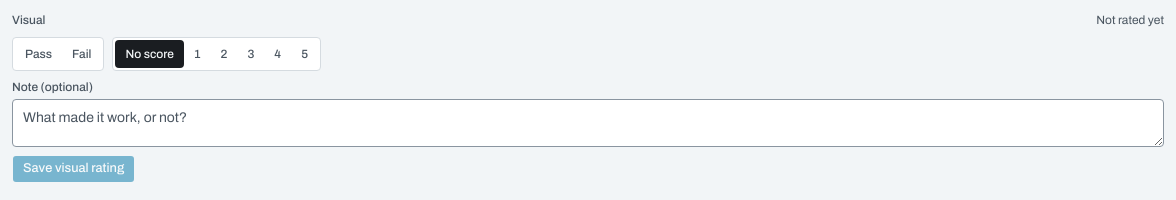
Test: RatingControl feedback › keeps an error message until the next edit
Click the button "Pass". click: (39, 54)
box: left=15, top=40, right=62, bottom=68
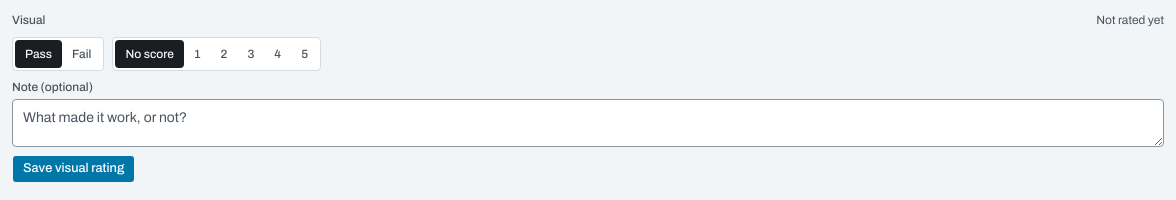
Click the button "Save visual rating". click: (74, 169)
box: left=12, top=155, right=135, bottom=183
Wait 5000 ms
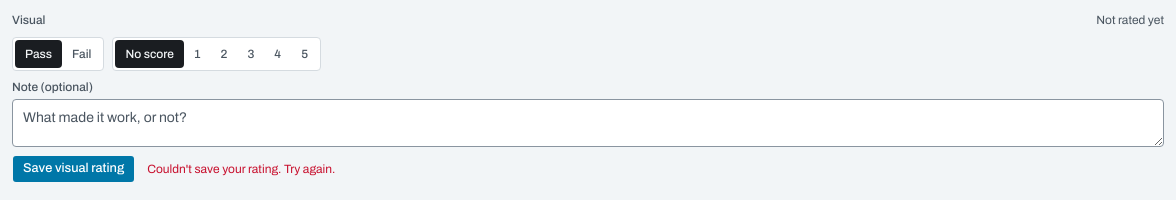
Now the text "Couldn't save your rating. Try again." is shown, box left=147, top=162, right=335, bottom=176
